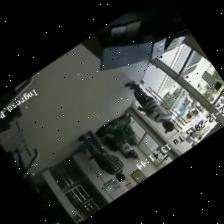person: (124, 81, 173, 132), (78, 130, 124, 181), (8, 148, 24, 173), (175, 104, 190, 118)
